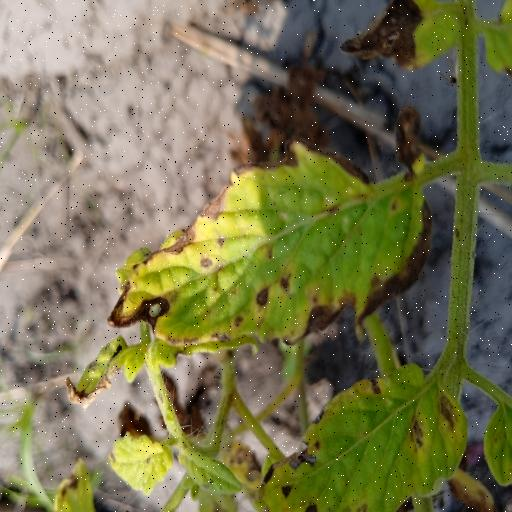Tomato_Brown_Spots: (64, 128, 437, 414), (260, 365, 470, 512)
